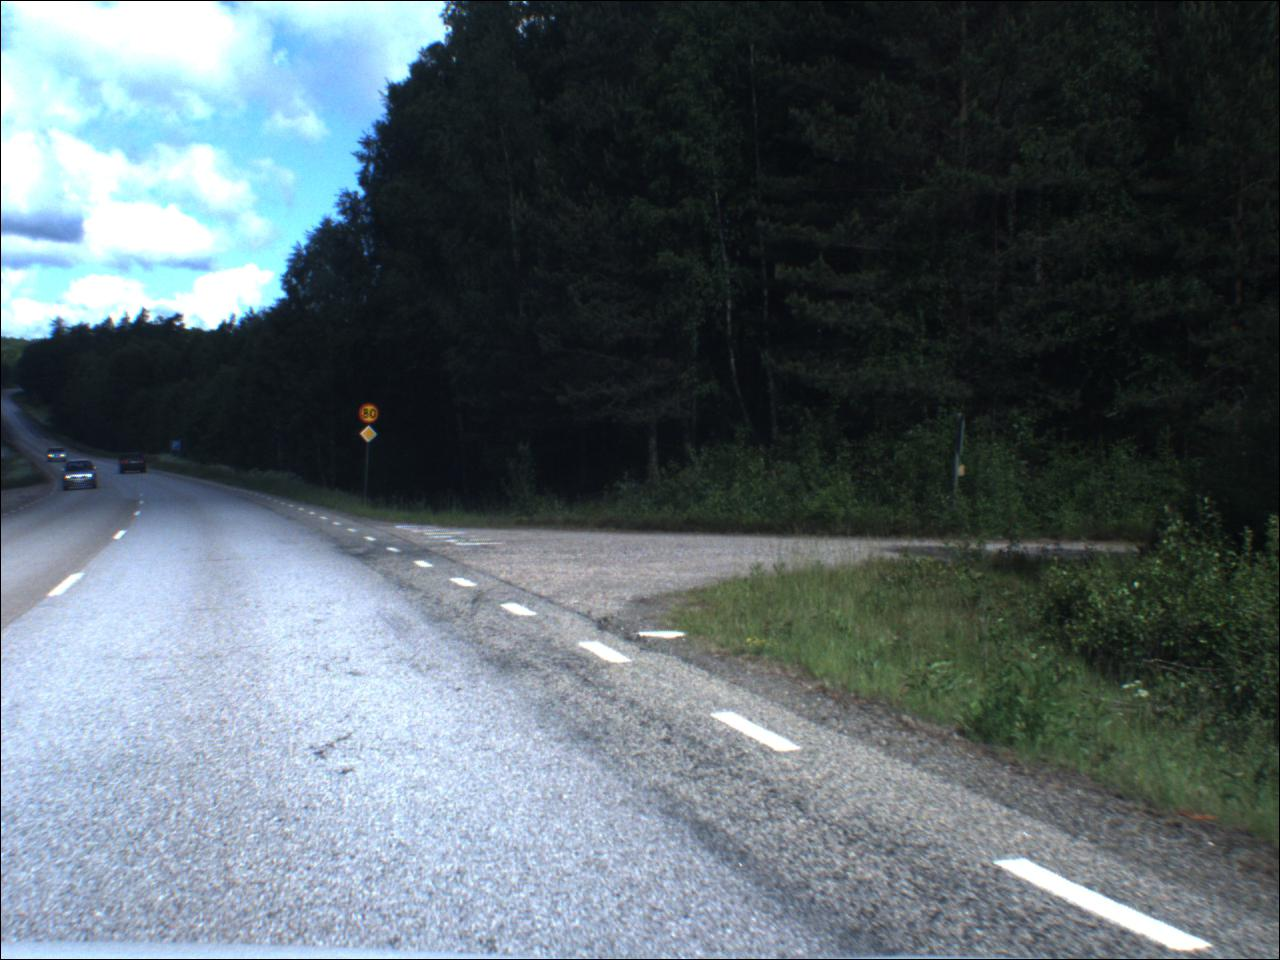80_SIGN: (361, 405, 382, 426)
PRIORITY_ROAD: (361, 426, 381, 446)
